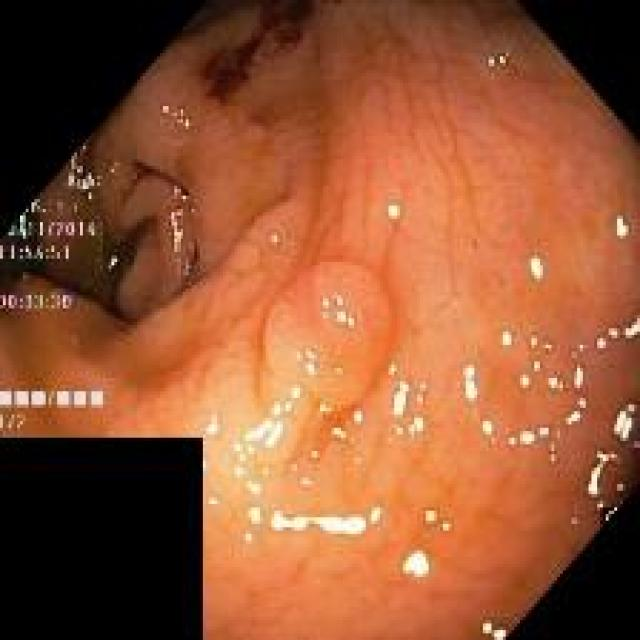Polyps: (260, 263, 392, 408)
